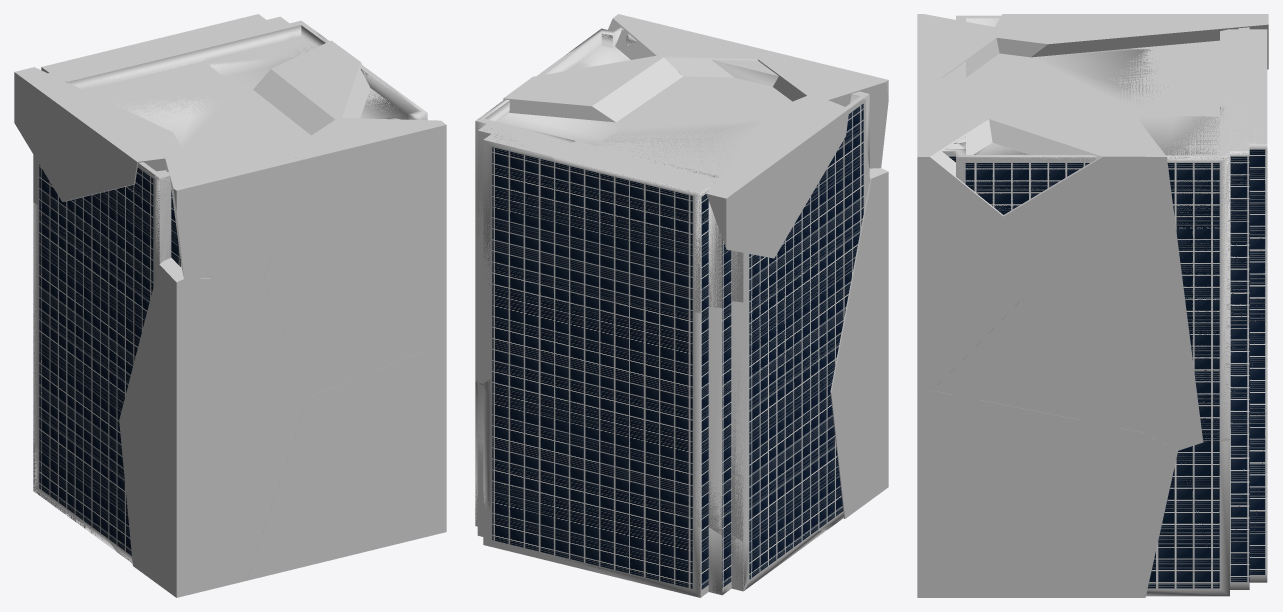
The model's file is debri5.fbx.
3 views of the same model, side by side, from view 1: azimuth 30°, elevation 25°; view 2: azimuth 150°, elevation 25°; view 3: azimuth 270°, elevation 25° (orthographic). The views are drawn at different scales.
Parts seen in each view (by area): view 1: polySurface2_cell.012, polySurface2_cell.001, polySurface2_cell, polySurface2, polySurface2_cell.003, polySurface2_cell.004, polySurface2_cell.014, polySurface2_cell.007, polySurface2_cell.002, polySurface2_cell.010, polySurface2_cell.013, polySurface2_cell.008 (+2 smaller); view 2: polySurface2, polySurface2_cell.003, polySurface2_cell.008, polySurface2_cell.010, polySurface2_cell.009, polySurface2_cell.012, polySurface2_cell.014, polySurface2_cell.002, polySurface2_cell.004, polySurface2_cell.001, polySurface2_cell.007, polySurface2_cell.006 (+1 smaller); view 3: polySurface2_cell, polySurface2_cell.002, polySurface2, polySurface2_cell.009, polySurface2_cell.001, polySurface2_cell.008, polySurface2_cell.011, polySurface2_cell.014, polySurface2_cell.004, polySurface2_cell.010, polySurface2_cell.006.
Boxes of the visible parts, x1,y1,x2,y2 form: polySurface2_cell.012: (119, 257, 306, 597); polySurface2_cell.001: (263, 118, 446, 397); polySurface2_cell: (247, 342, 446, 580); polySurface2: (33, 14, 421, 562); polySurface2_cell.003: (33, 202, 132, 563); polySurface2_cell.004: (165, 153, 303, 278); polySurface2_cell.014: (14, 67, 184, 201); polySurface2_cell.007: (60, 186, 161, 416); polySurface2_cell.002: (253, 40, 370, 135); polySurface2_cell.010: (41, 53, 223, 204); polySurface2_cell.013: (135, 165, 181, 266); polySurface2_cell.008: (33, 443, 116, 551); polySurface2: (475, 27, 869, 597); polySurface2_cell.003: (483, 290, 843, 541); polySurface2_cell.008: (475, 380, 827, 597); polySurface2_cell.010: (552, 119, 764, 312); polySurface2_cell.009: (475, 99, 620, 324); polySurface2_cell.012: (830, 168, 888, 518); polySurface2_cell.014: (706, 95, 849, 258); polySurface2_cell.002: (503, 55, 682, 122); polySurface2_cell.004: (757, 49, 888, 168); polySurface2_cell.001: (608, 14, 761, 77); polySurface2_cell.007: (766, 176, 869, 390); polySurface2_cell.006: (545, 27, 637, 74); polySurface2_cell: (917, 390, 1177, 597); polySurface2_cell.002: (989, 115, 1203, 450); polySurface2: (942, 15, 1267, 498); polySurface2_cell.009: (1136, 106, 1267, 441); polySurface2_cell.001: (917, 77, 1021, 392); polySurface2_cell.008: (1146, 415, 1267, 596); polySurface2_cell.011: (933, 299, 1141, 432); polySurface2_cell.014: (995, 14, 1268, 69); polySurface2_cell.004: (917, 14, 999, 80); polySurface2_cell.010: (1031, 48, 1235, 114); polySurface2_cell.006: (942, 136, 1098, 211).
Size of the model in its own units: 1321 by 1903 by 1374.
